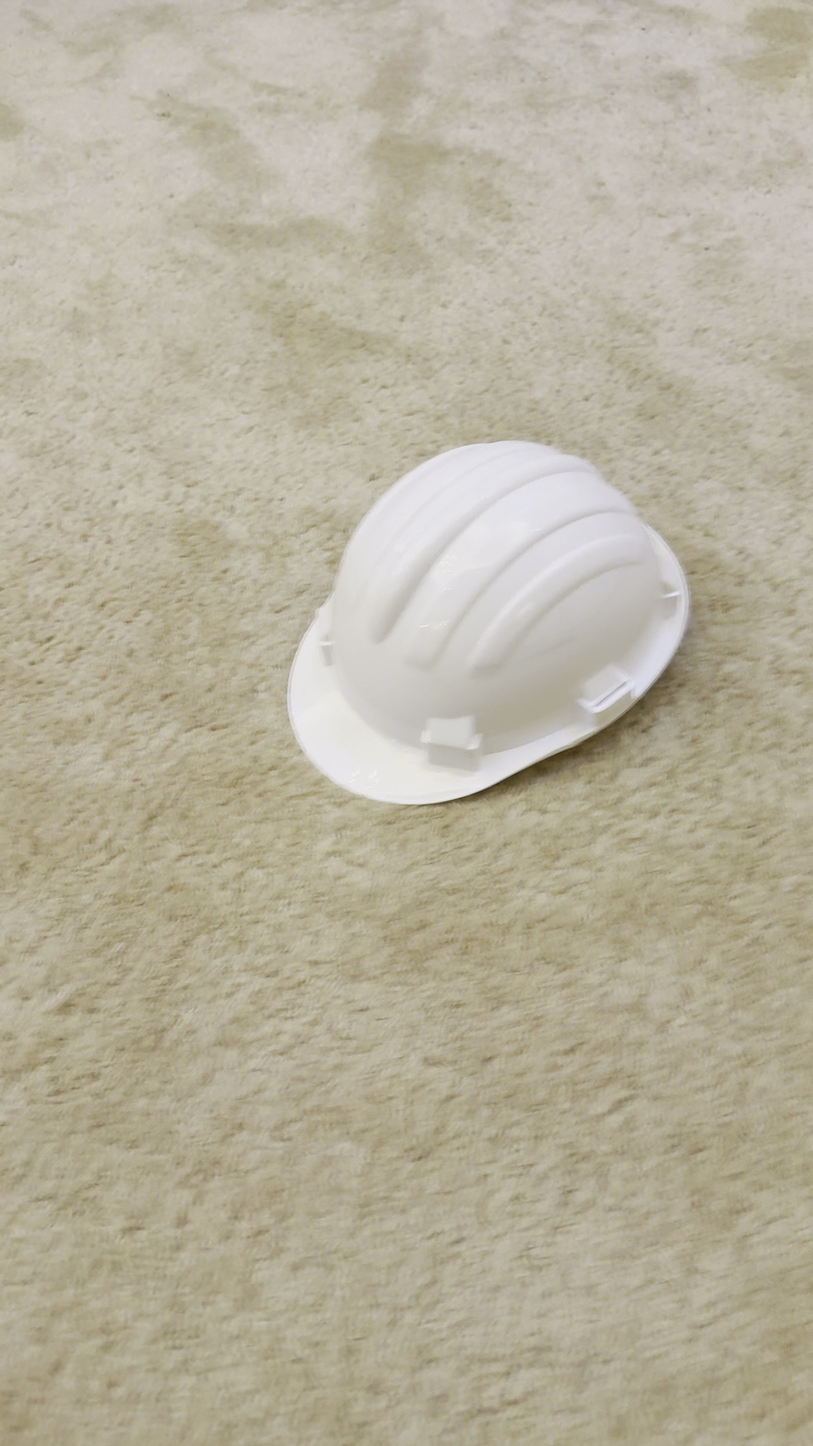safety_helmet: (284, 436, 691, 808)
